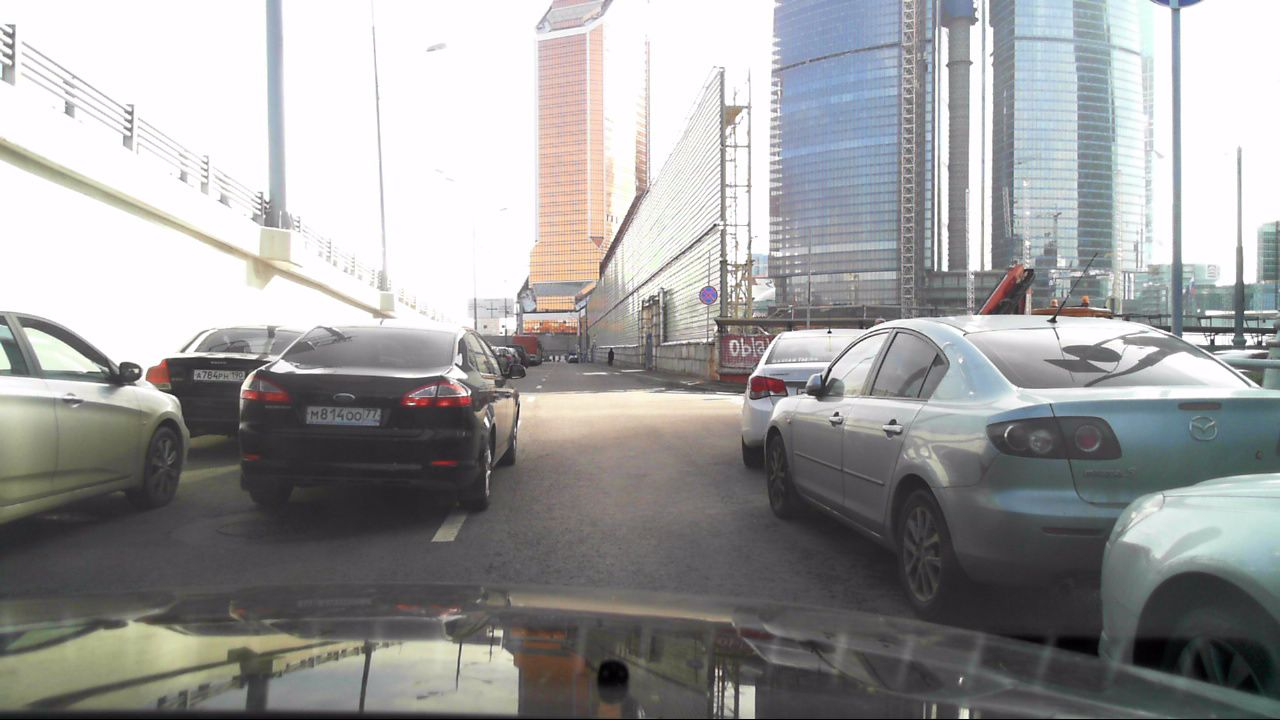No Parking: (698, 284, 718, 305)
